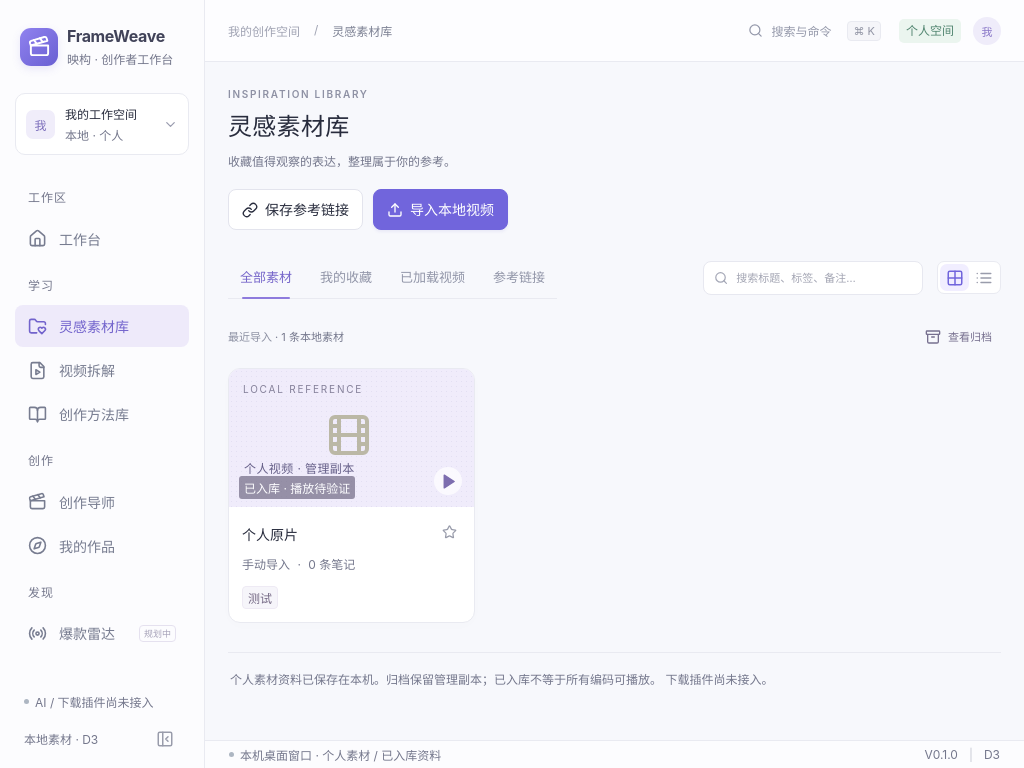
Test: D3个人素材接线（组件证据，不是原生UI或SQLite证据） › 修订冲突不覆盖新资料；显式刷新修订后保留输入再次确认
Click the button "个人原片" at [337, 535], box [242, 520, 432, 550]
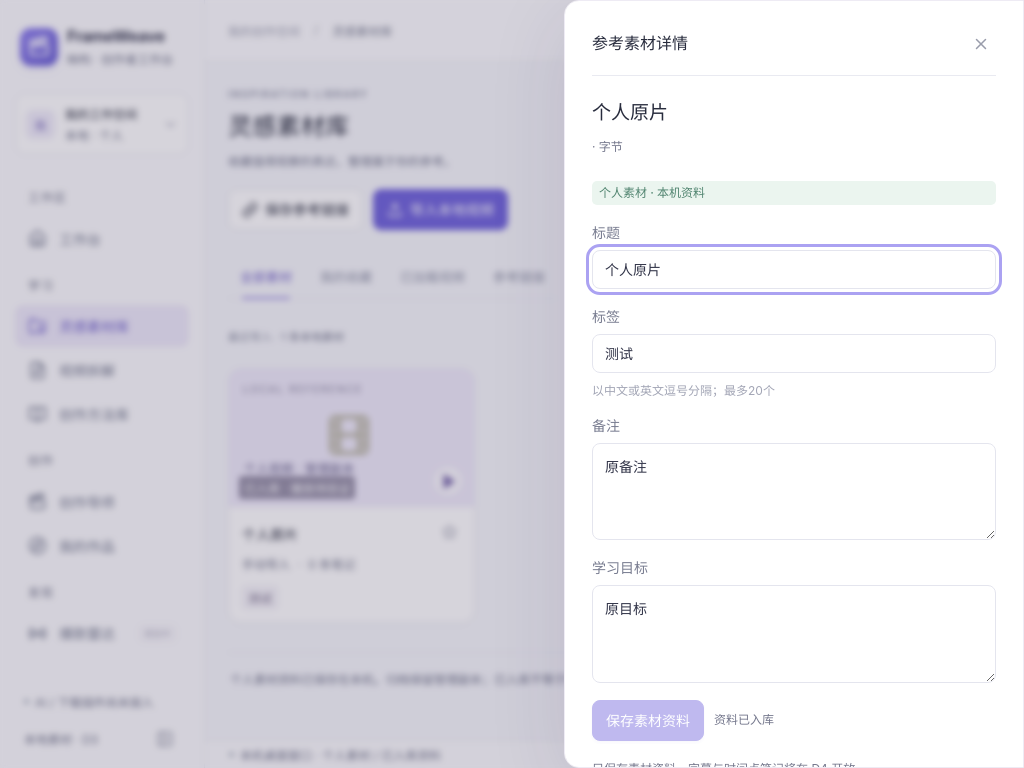
Replace the text in the field labelled "标题" with "保留我的输入" at [794, 269], box [592, 250, 996, 289]
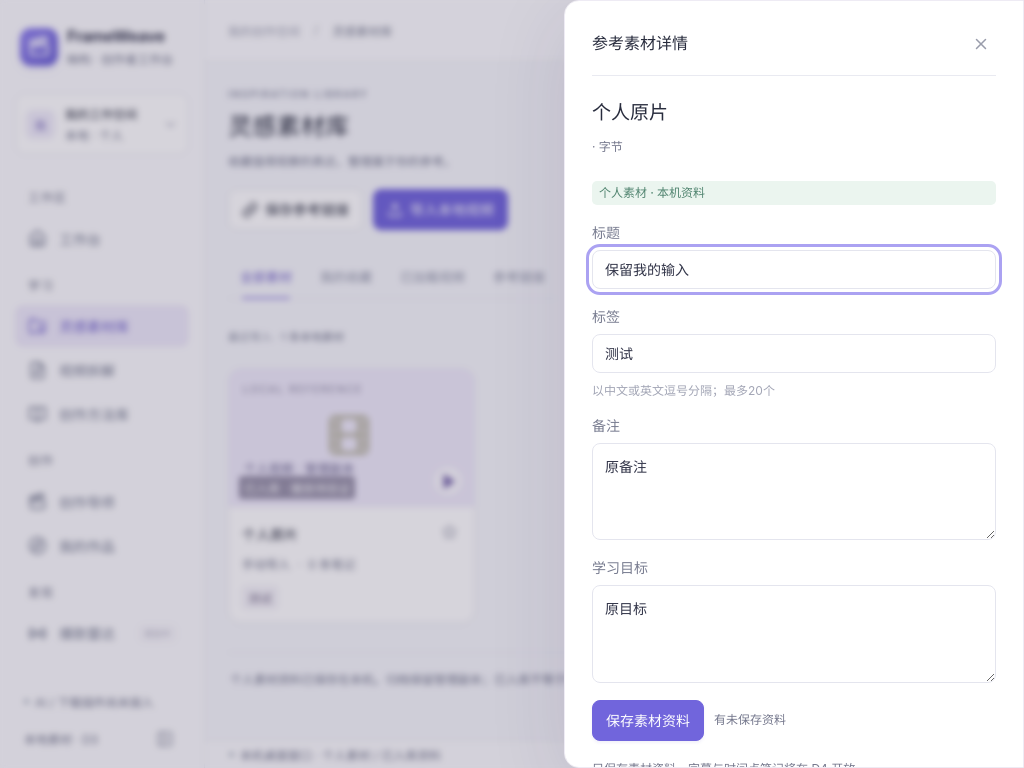
Click the button "保存素材资料" at [648, 720], box [592, 700, 704, 741]
(page scrolled)
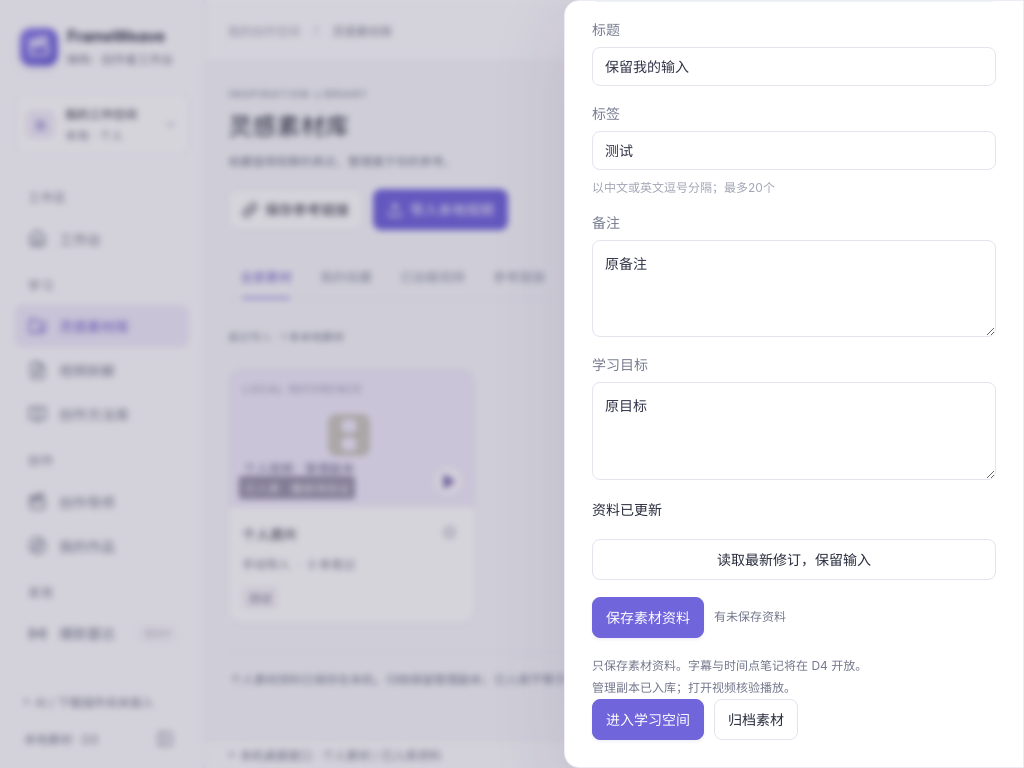
Click the button "读取最新修订，保留输入" at [794, 559], box [592, 539, 996, 580]
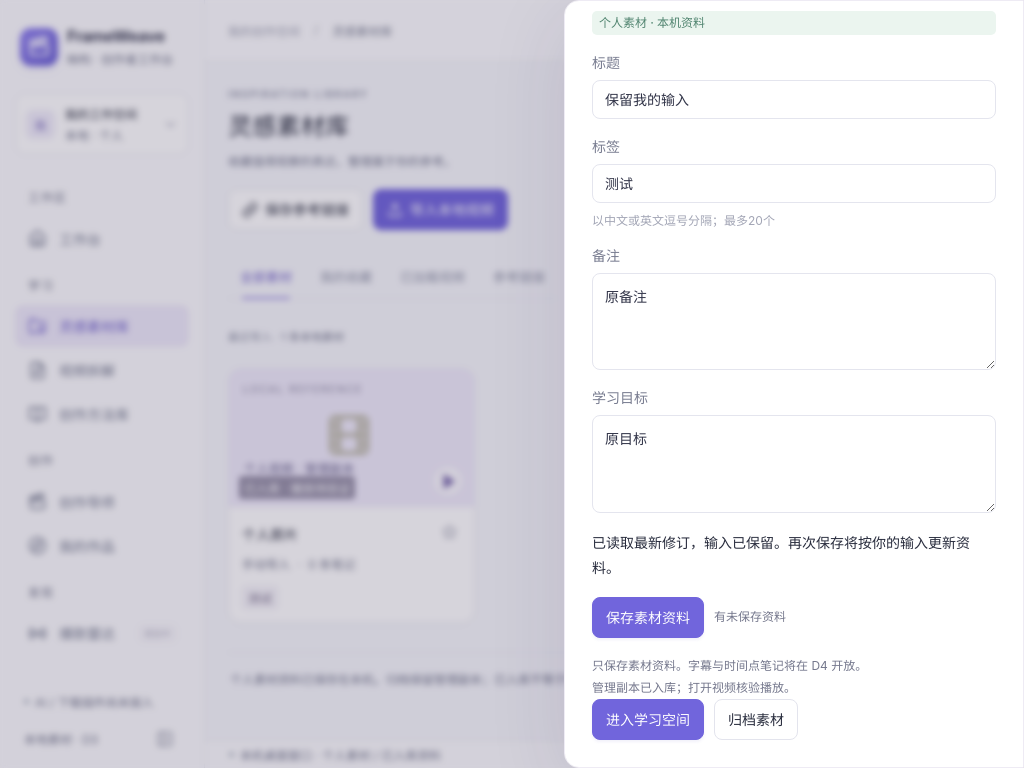
Check: the text "已读取最新修订，输入已保留。再次保存将按你的输入更新资料。" is shown, box [592, 530, 996, 580]
Click the button "保存素材资料" at [648, 618], box [592, 597, 704, 638]
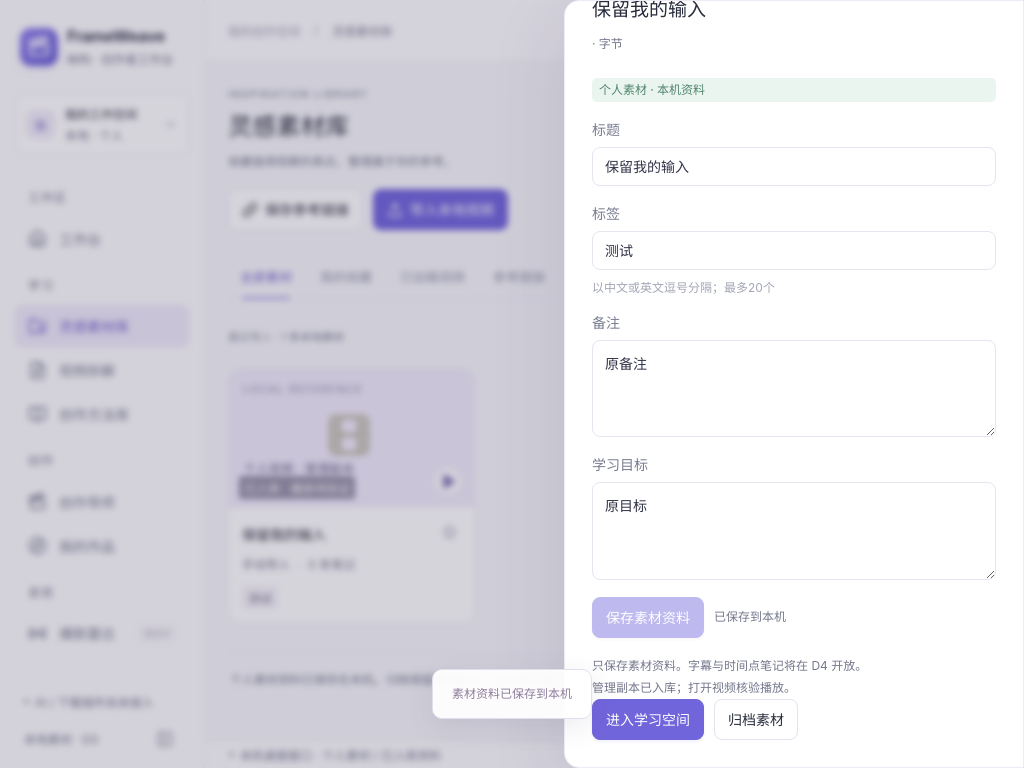
Check: the text "已保存到本机" is shown, box [714, 606, 786, 628]
